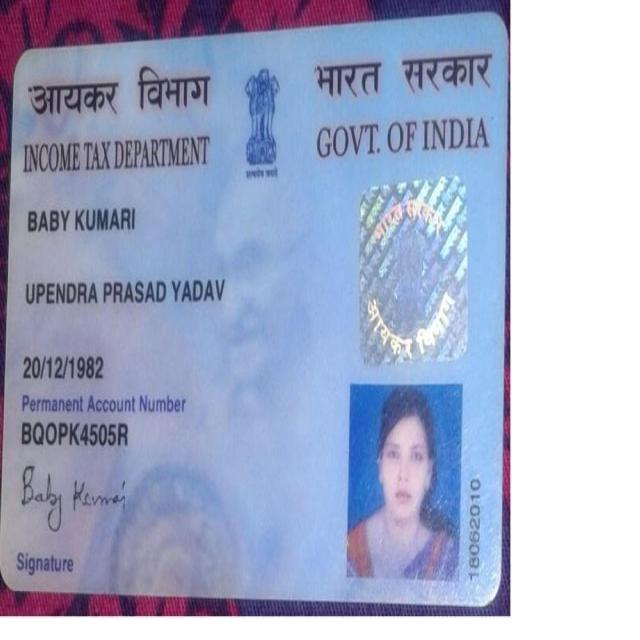pan_card: (6, 34, 497, 597)
